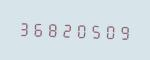eight: (45, 18, 58, 39)
five: (87, 20, 100, 40)
nine: (115, 21, 128, 41)
six: (31, 18, 44, 38)
three: (17, 17, 30, 38)
two: (59, 19, 72, 39)
zero: (73, 19, 86, 40), (101, 20, 114, 41)
